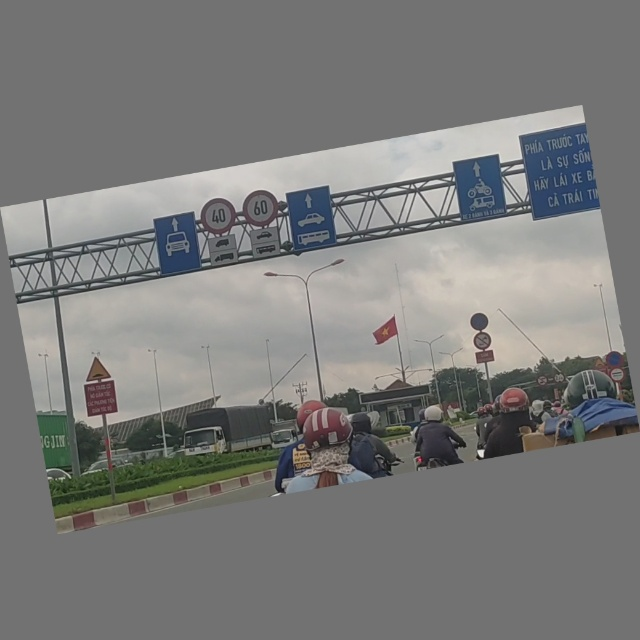P.107: (536, 375, 549, 388), (553, 372, 566, 385)
P.111: (472, 330, 494, 352)
P.127*40: (198, 195, 239, 238)
P.127*60: (240, 188, 282, 230)
P.129: (610, 368, 626, 383)
P.130: (469, 312, 490, 332)
P.131a: (605, 351, 625, 370)
W.221b: (82, 355, 112, 382), (593, 357, 607, 369)
